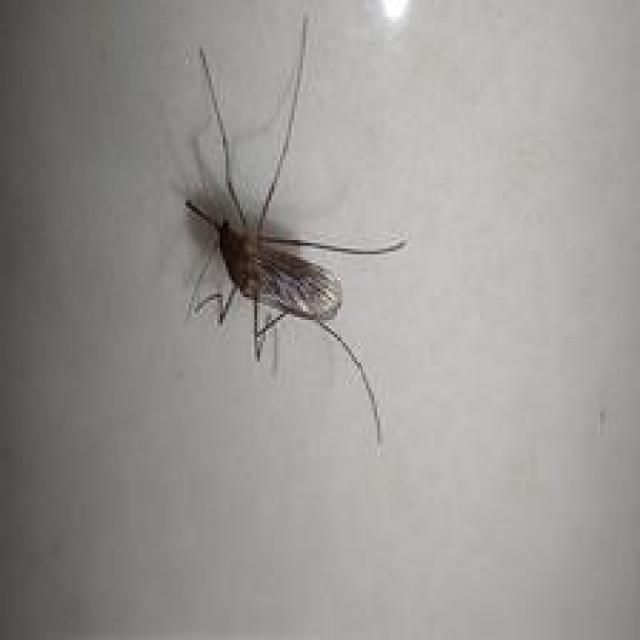Culex: (180, 13, 409, 447)
